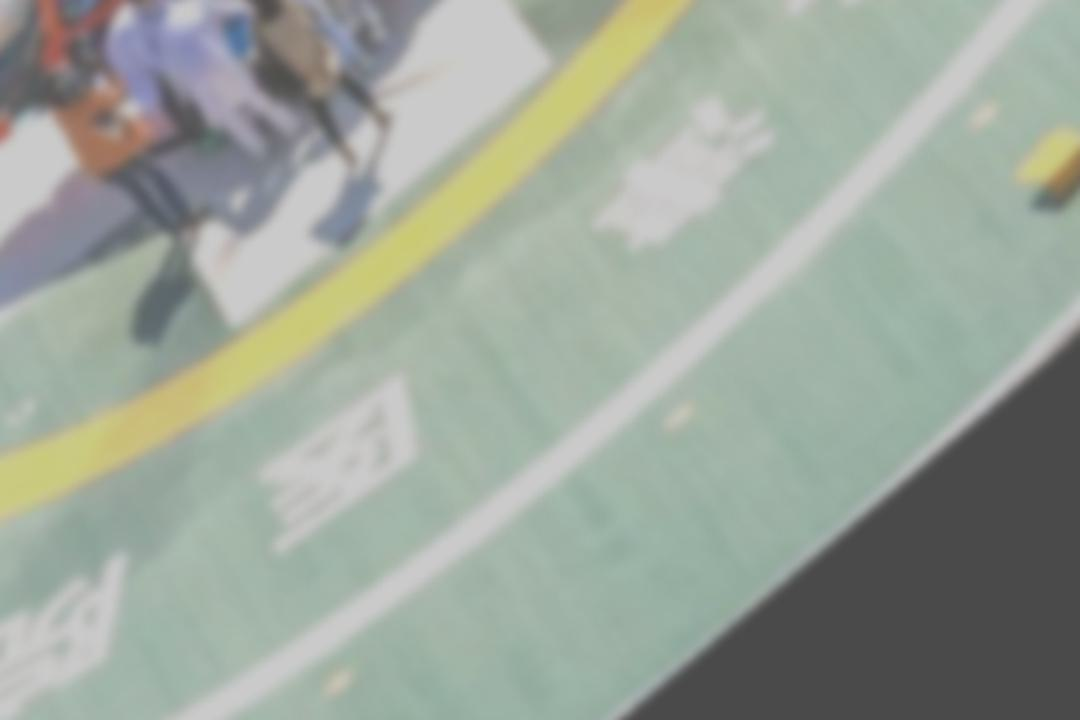Apron: (1, 1, 723, 518)
